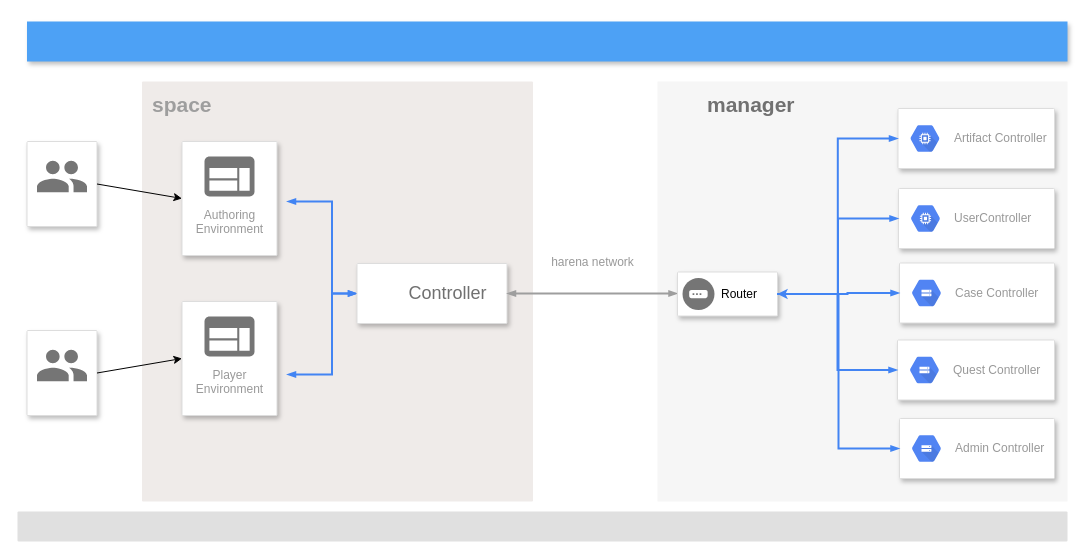
Some shapes in this 1090 by 558 pixel diagram are drawn without their labels. The centre of each missing label's shape, as x and y in pixels:
"Author" goes at [62,185].
"Harena" goes at [547,42].
"Player" goes at [62,374].
